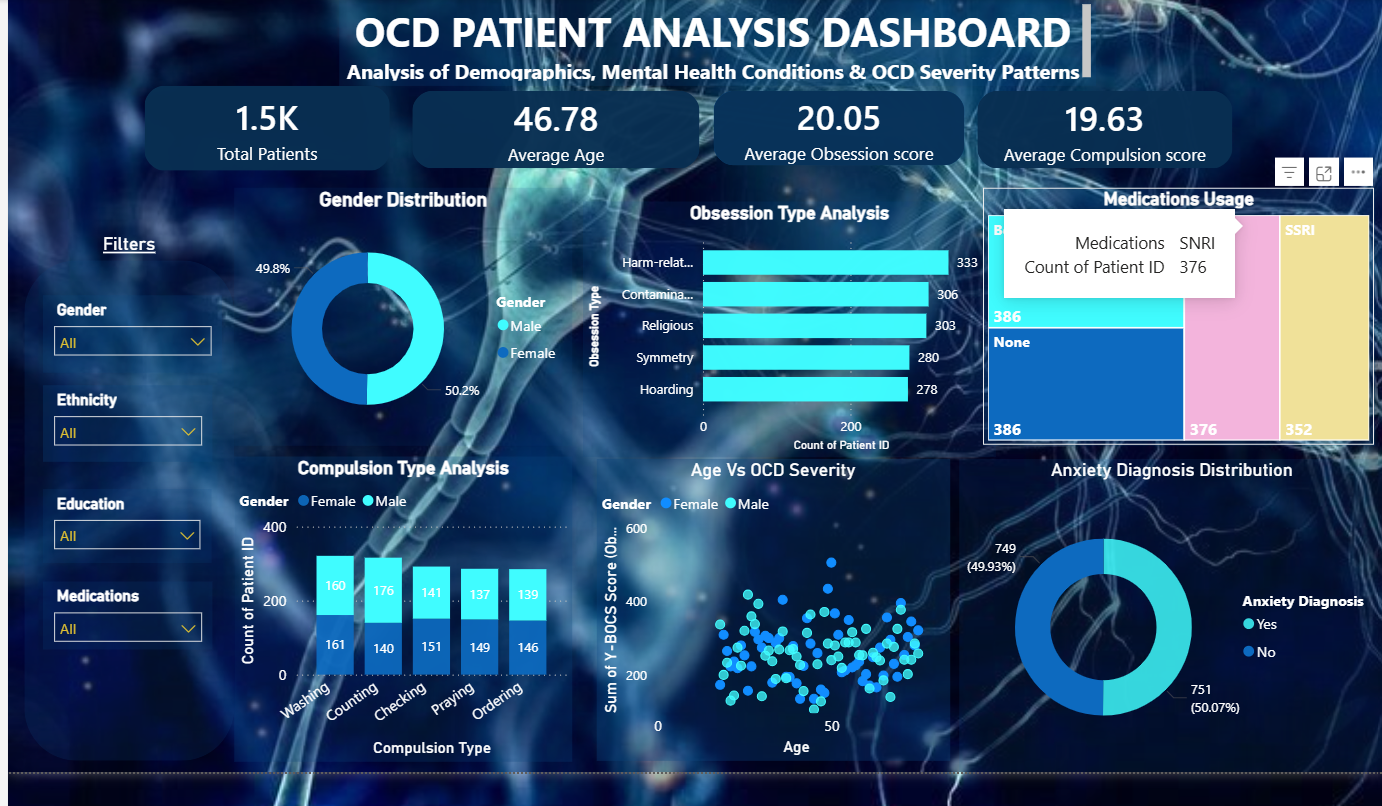

The page's visual inventory and layout, read from the dashboard file:
{"tool":"powerbi","page":{"name":"Page 1","canvas":[1280,720],"ordinal":0},"visuals":[{"type":"cardVisual","fields":{"Data":["CountNonNull(ocd_patient_dataset.Patient ID)"]},"box":[41.1,7.5,201.5,143.1],"z":0},{"type":"cardVisual","fields":{"Data":["Avg(ocd_patient_dataset.Age)"]},"box":[189.1,0,201.5,149.3],"z":1000},{"type":"cardVisual","fields":{"Data":["Avg(ocd_patient_dataset.Y-BOCS Score (Obsessions))"]},"box":[413,0,242.9,150.9],"z":2000},{"type":"cardVisual","fields":{"Data":["Avg(ocd_patient_dataset.Y-BOCS Score (Compulsions))"]},"box":[655.9,1.4,201.7,149.6],"z":3000},{"type":"donutChart","title":"Gender Distribution ","fields":{"Category":["ocd_patient_dataset.Gender"],"Y":["CountNonNull(ocd_patient_dataset.Patient ID)"]},"box":[9.6,219.6,303.3,258],"z":4000},{"type":"clusteredBarChart","title":" Obsession Type Analysis","fields":{"Category":["ocd_patient_dataset.Obsession Type"],"Y":["CountNonNull(ocd_patient_dataset.Patient ID)"]},"box":[312.9,149.6,366.4,264.8],"z":5000},{"type":"columnChart","title":" Compulsion Type Analysis","fields":{"Category":["ocd_patient_dataset.Compulsion Type"],"Y":["CountNonNull(ocd_patient_dataset.Patient ID)"],"Series":["ocd_patient_dataset.Gender"]},"box":[857.6,16.5,403.4,292.3],"z":6000},{"type":"treemap","title":" Medications Usage","fields":{"Group":["ocd_patient_dataset.Medications"],"Values":["CountNonNull(ocd_patient_dataset.Patient ID)"]},"box":[668.3,150.9,178.4,263.5],"z":7000},{"type":"slicer","fields":{"Values":["ocd_patient_dataset.Gender"]},"box":[329.6,521.2,263.7,67.2],"z":8000},{"type":"slicer","fields":{"Values":["ocd_patient_dataset.Ethnicity"]},"box":[857.1,308.5,349.6,80.9],"z":9000},{"type":"donutChart","title":" Anxiety Diagnosis Distribution","fields":{"Category":["ocd_patient_dataset.Anxiety Diagnosis"],"Y":["CountNonNull(ocd_patient_dataset.Patient ID)"]},"box":[897,542,339,178],"z":10000},{"type":"slicer","fields":{"Values":["ocd_patient_dataset.Medications"]},"box":[313.5,456.5,365.7,85.8],"z":11000},{"type":"slicer","fields":{"Values":["ocd_patient_dataset.Education Level"]},"box":[679.2,456.5,166.7,64.7],"z":12000},{"type":"slicer","fields":{"Values":["ocd_patient_dataset.Gender"]},"box":[857.1,390.6,349.6,77.1],"z":13000},{"type":"scatterChart","title":" Age Vs OCD Severity","fields":{"X":["ocd_patient_dataset.Age"],"Y":["Sum(ocd_patient_dataset.Y-BOCS Score (Obsessions))"],"Series":["ocd_patient_dataset.Gender"]},"box":[10,542,303,178],"z":14000}]}

Visuals, with their boxes on the page's 1280x720 design canvas (x1, y1, x2, y2). These are canvas units, not pixel positions in the 1382x806 screenshot, which may show the page scaled, cropped or inside an application window:
cardVisual - CountNonNull(ocd_patient_dataset.Patient ID): region(41, 8, 243, 151)
cardVisual - Avg(ocd_patient_dataset.Age): region(189, 0, 391, 149)
cardVisual - Avg(ocd_patient_dataset.Y-BOCS Score (Obsessions)): region(413, 0, 656, 151)
cardVisual - Avg(ocd_patient_dataset.Y-BOCS Score (Compulsions)): region(656, 1, 858, 151)
"Gender Distribution " donutChart: region(10, 220, 313, 478)
" Obsession Type Analysis" clusteredBarChart: region(313, 150, 679, 414)
" Compulsion Type Analysis" columnChart: region(858, 16, 1261, 309)
" Medications Usage" treemap: region(668, 151, 847, 414)
slicer - ocd_patient_dataset.Gender: region(330, 521, 593, 588)
slicer - ocd_patient_dataset.Ethnicity: region(857, 308, 1207, 389)
" Anxiety Diagnosis Distribution" donutChart: region(897, 542, 1236, 720)
slicer - ocd_patient_dataset.Medications: region(314, 456, 679, 542)
slicer - ocd_patient_dataset.Education Level: region(679, 456, 846, 521)
slicer - ocd_patient_dataset.Gender: region(857, 391, 1207, 468)
" Age Vs OCD Severity" scatterChart: region(10, 542, 313, 720)
